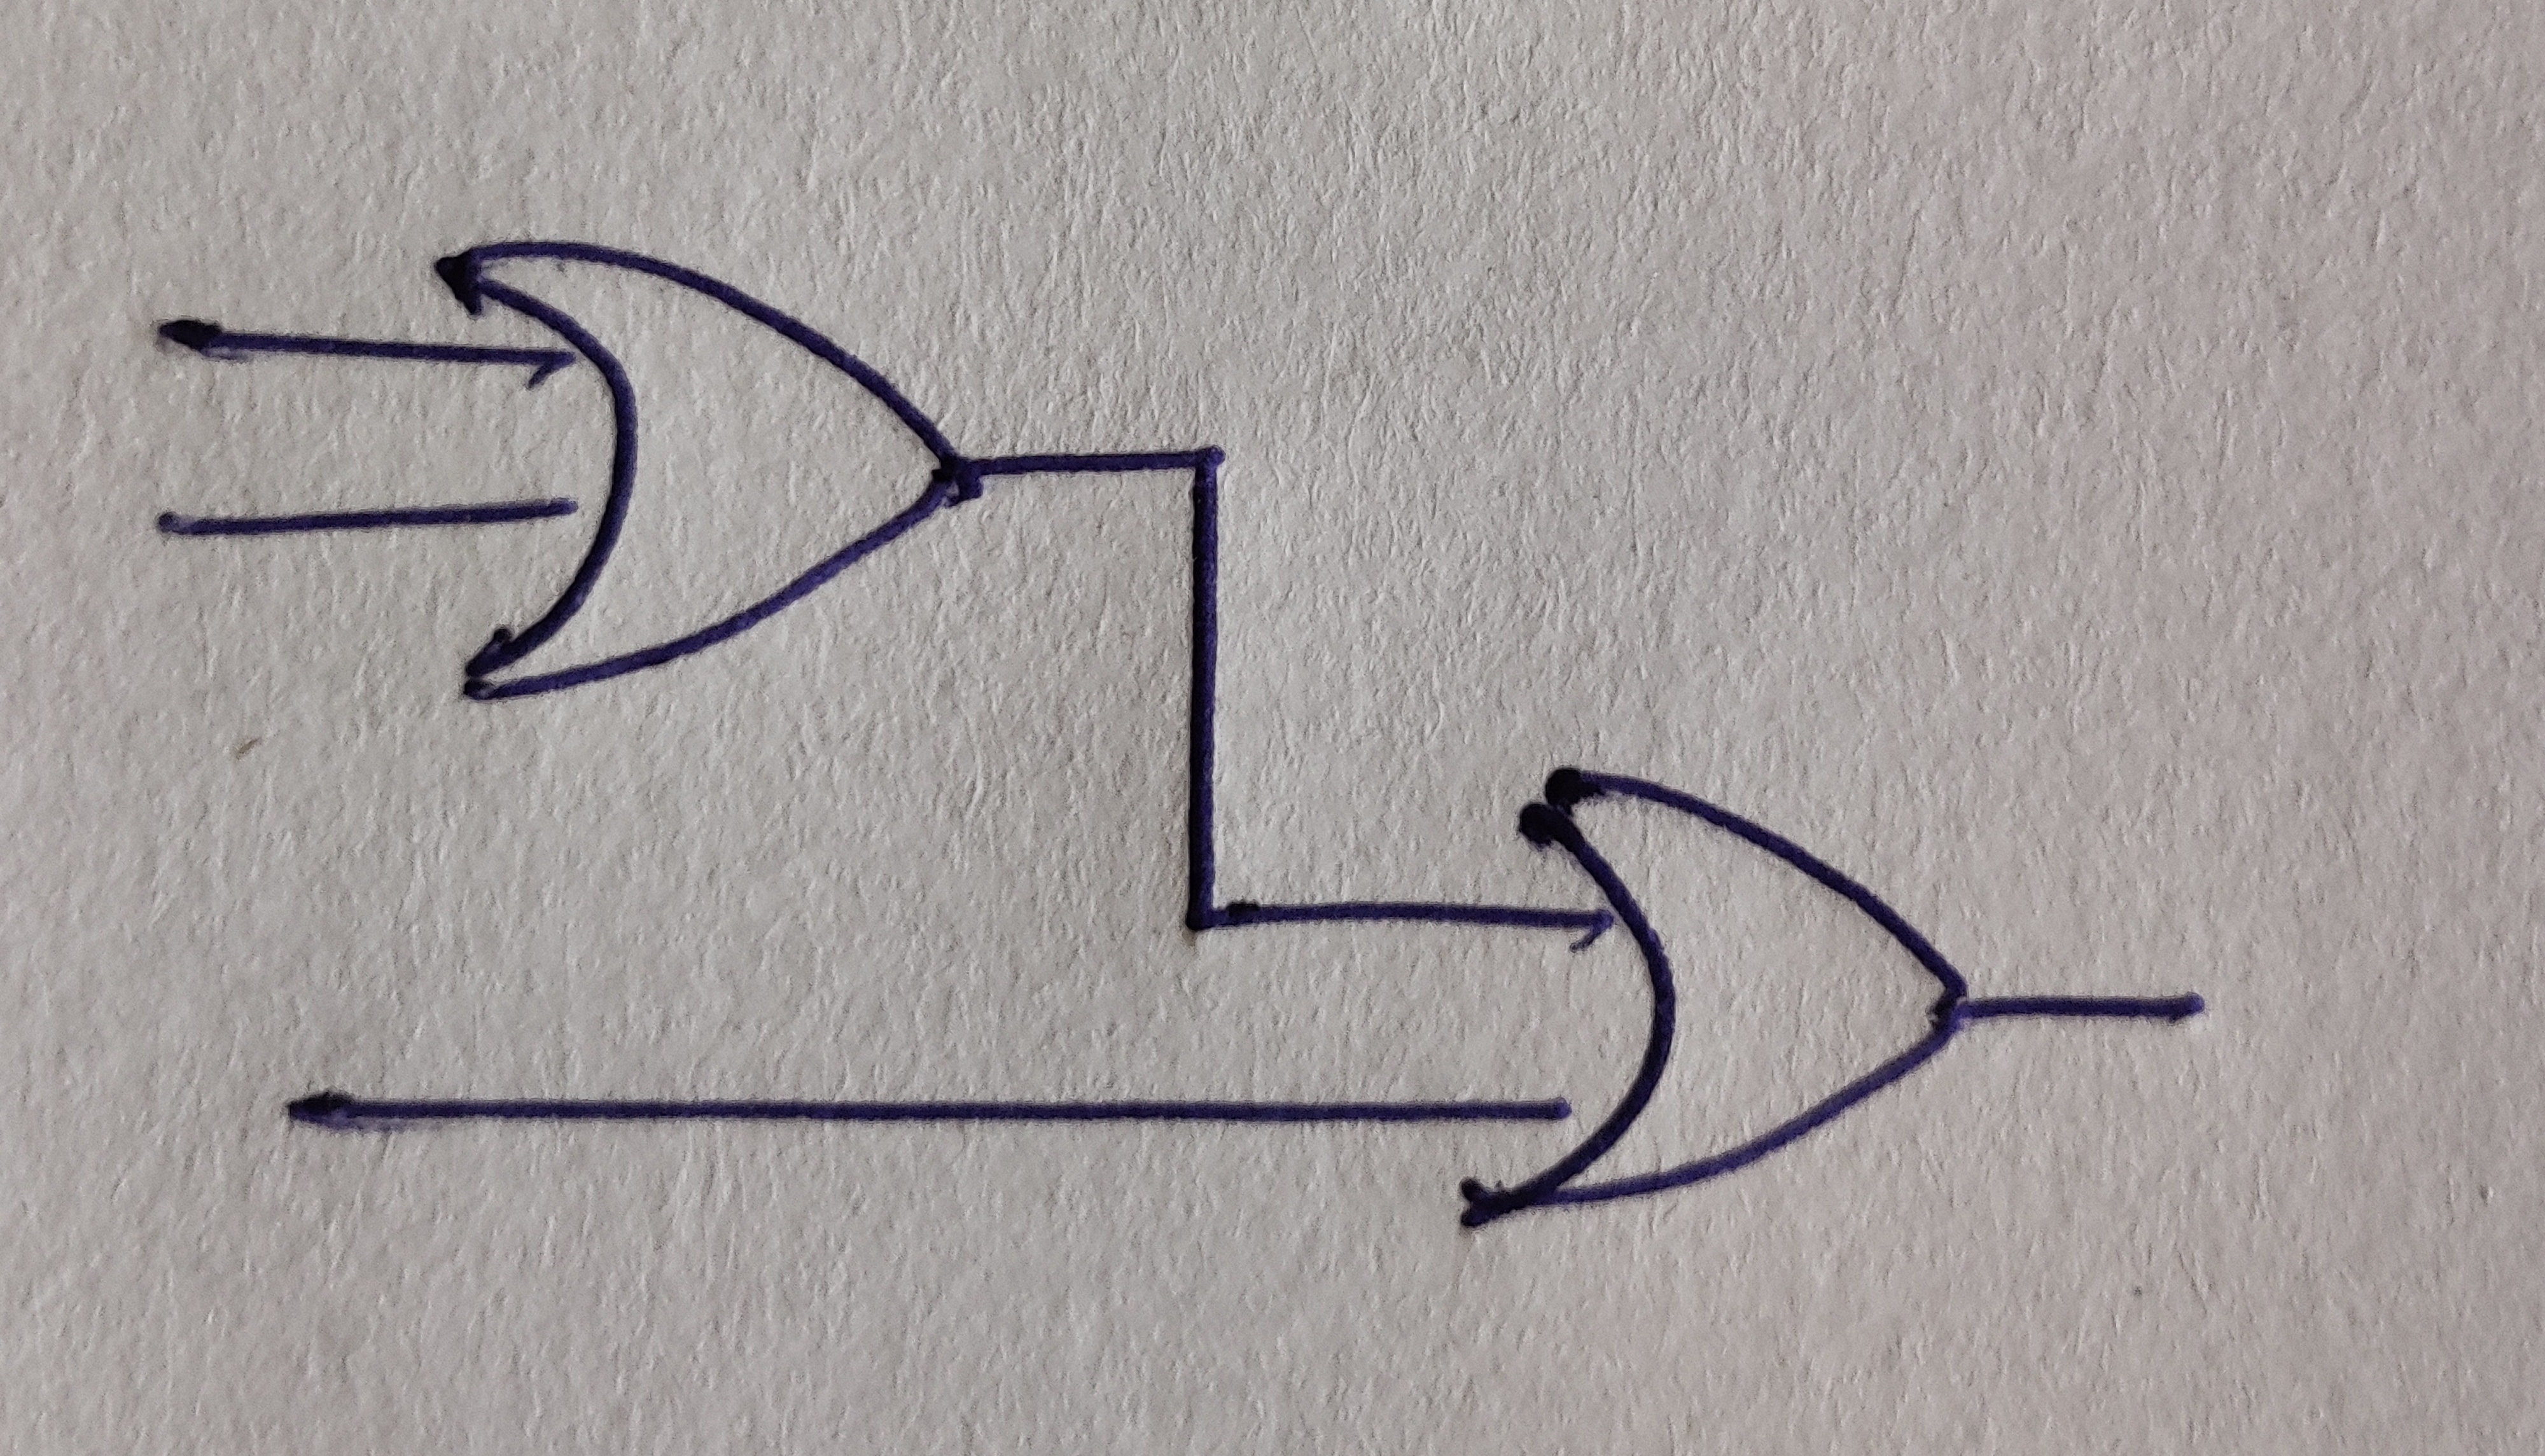or: (435, 241, 979, 701), (1460, 767, 1970, 1227)
